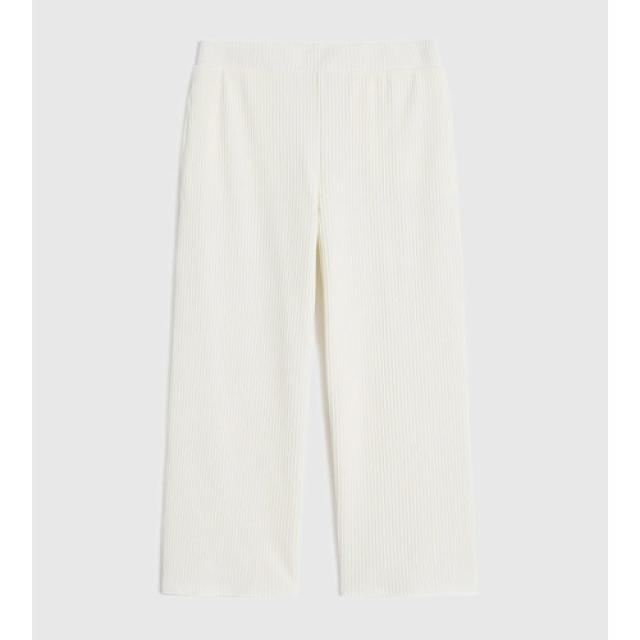long-pants: (157, 38, 486, 606)
